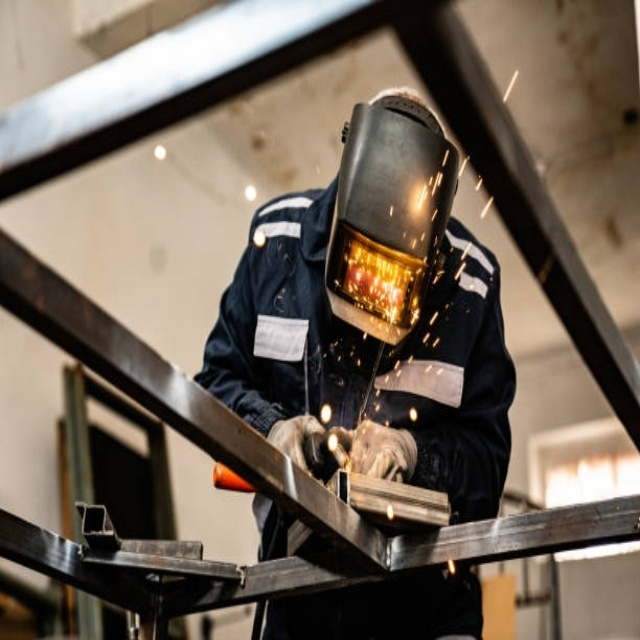Guantes: (268, 414, 336, 482), (348, 419, 418, 482)
